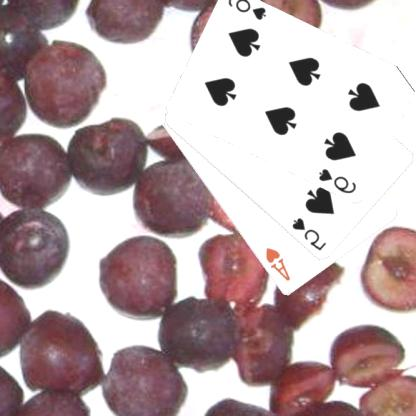5S: (290, 215, 330, 252)
6S: (317, 166, 360, 196), (227, 0, 270, 22)
AH: (264, 245, 294, 283)
